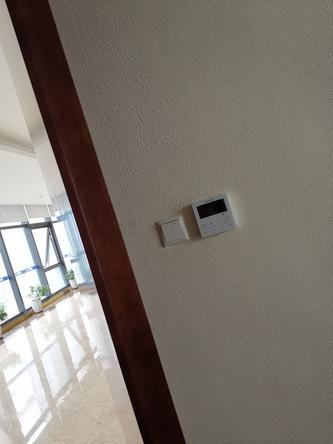switch: (172, 217, 187, 241), (160, 221, 174, 244)
